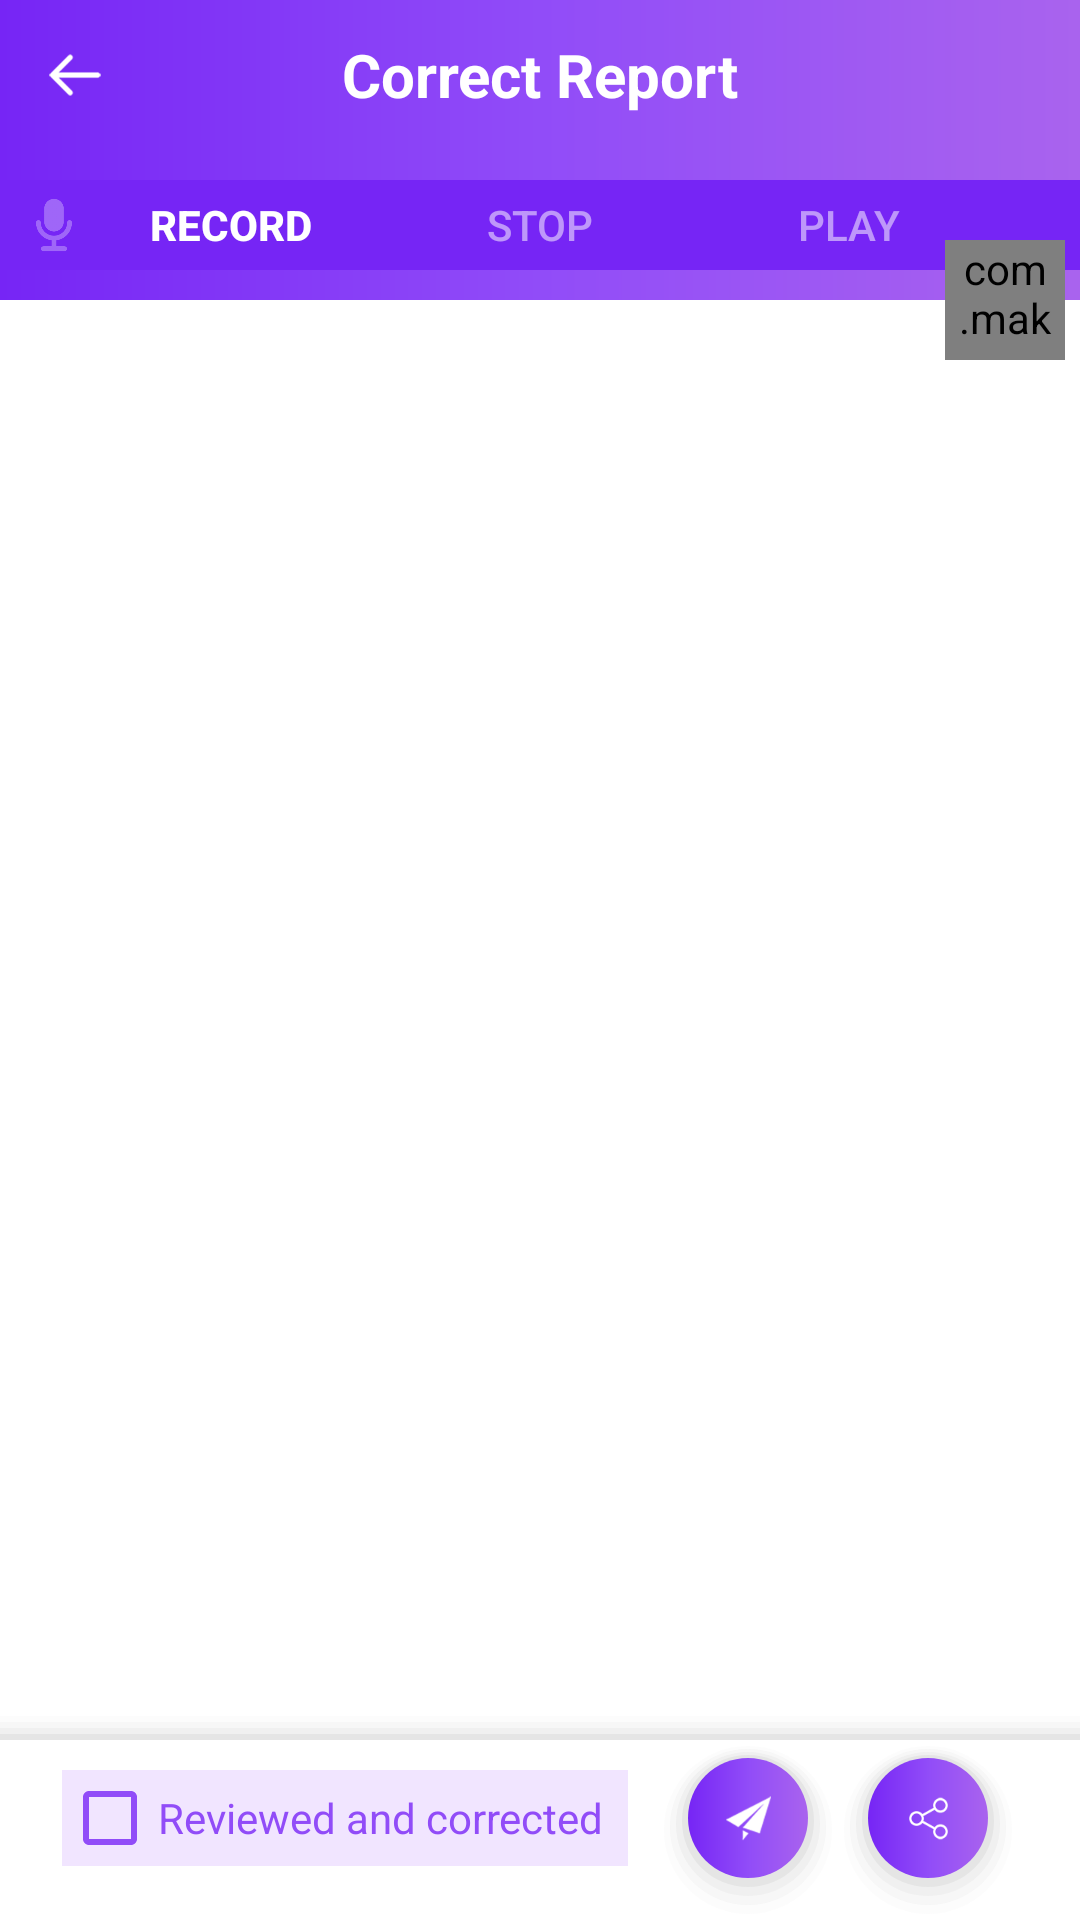

Where icons sit on this 1080 × 1920 app screen, as (x1, y1, x2, y2):
audio: (36, 199, 72, 251)
leftarrow: (49, 54, 101, 96)
share: (862, 1755, 994, 1887)
submit: (682, 1755, 814, 1887)
